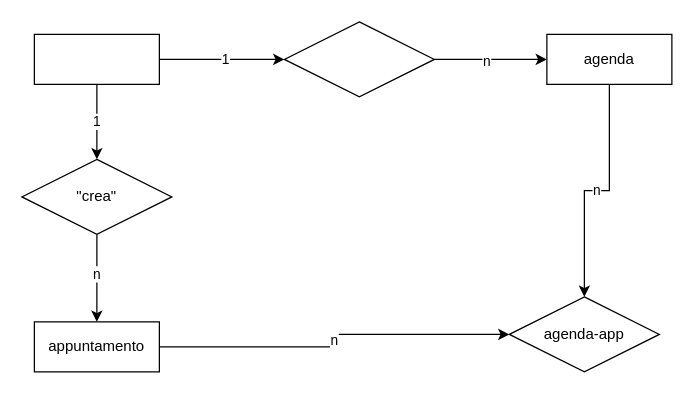
This 694x394 diagram has some shape labels left out. The centre of each missing label's shape, as x and y in pixels:
"gestisce": point 358,59
utente: point 96,58
